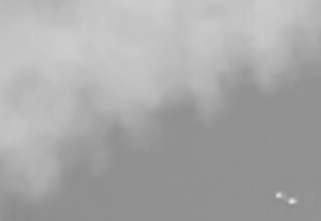Target: (276, 192, 295, 203)
